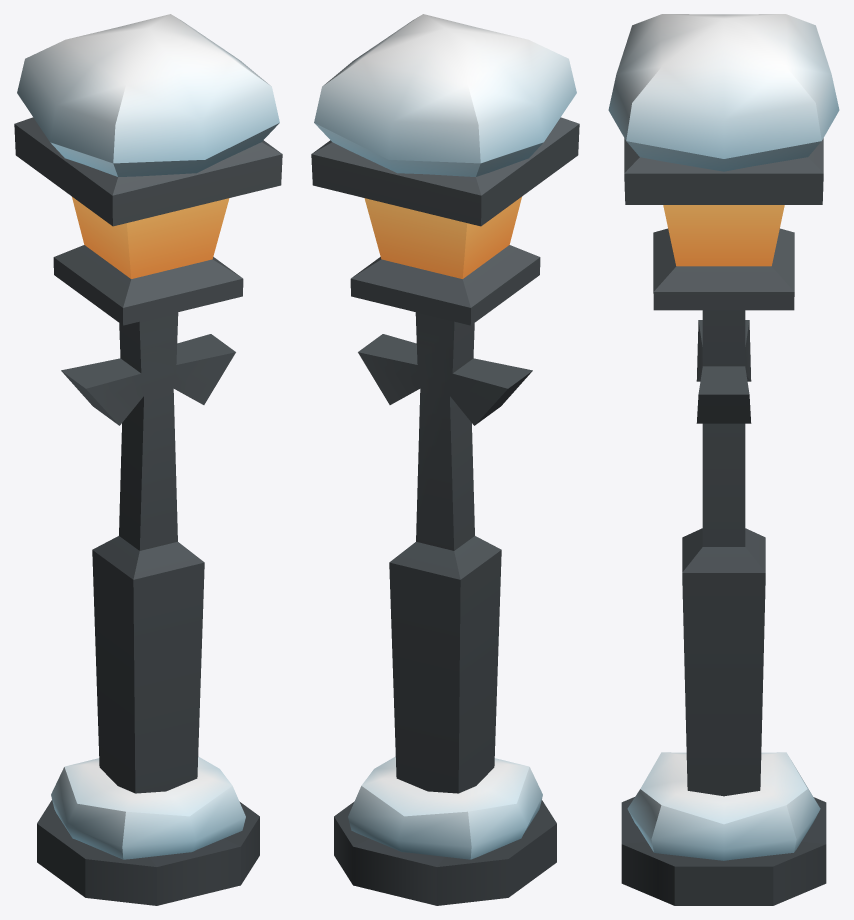
Rendered from prop-lantern-mini.glb.
The picture shows the model from 3 angles, left to right: view 1: azimuth 30°, elevation 25°; view 2: azimuth 150°, elevation 25°; view 3: azimuth 270°, elevation 25°; orthographic projection.
Visible parts, largest first — view 1: lantern_mini; view 2: lantern_mini; view 3: lantern_mini.
Part boxes in pixels (bbox=[...]): lantern_mini: bbox=[14, 14, 282, 905]; lantern_mini: bbox=[311, 14, 579, 905]; lantern_mini: bbox=[608, 14, 839, 905].
Size of the model in its own units: 0.1593 by 0.6418 by 0.1593.
2 materials, 2 textured.
